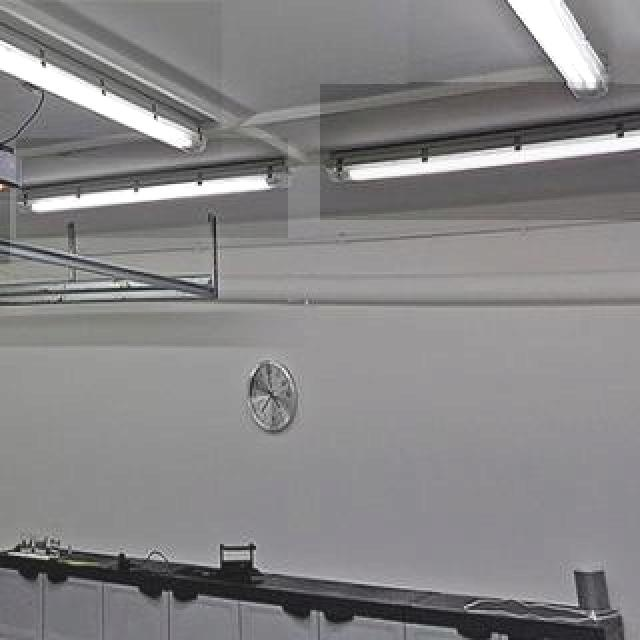fluorescent tube: (314, 100, 640, 218), (0, 0, 208, 160), (342, 0, 630, 102), (13, 155, 311, 233), (0, 192, 6, 254)
